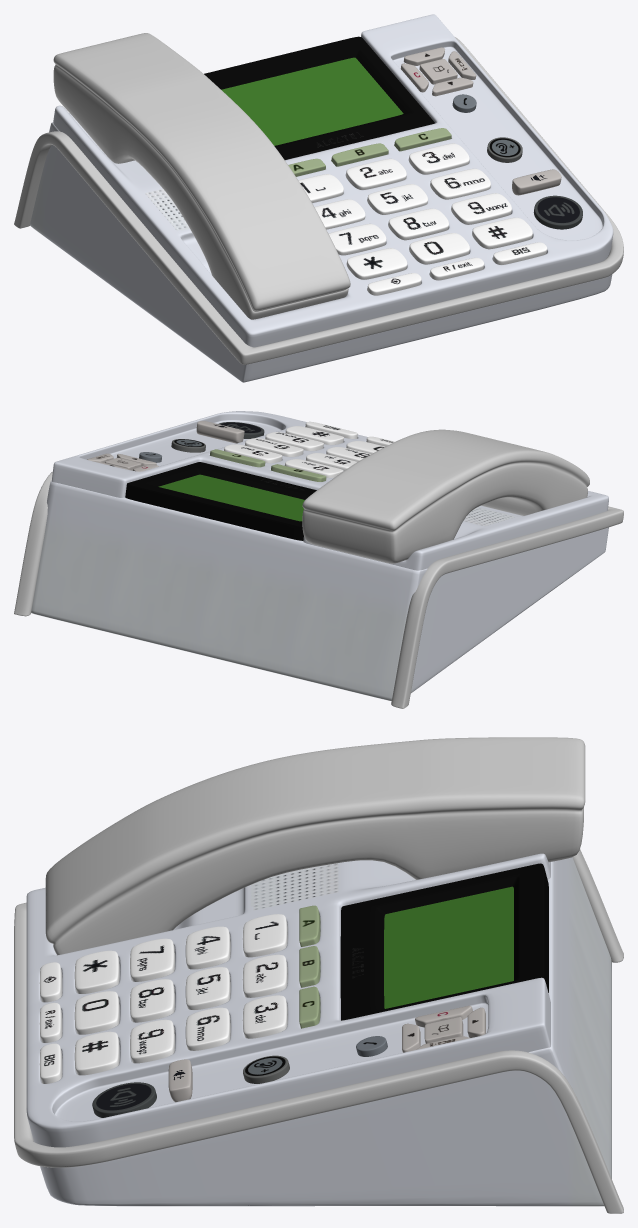
File: domophone.fbx
3 renders of one model, top to bottom at view 1: azimuth 30°, elevation 25°; view 2: azimuth 150°, elevation 25°; view 3: azimuth 270°, elevation 25°, orthographic. The views are drawn at different scales.
Visible parts, largest first — view 1: Socle, Plane.002, Cube, Plane, Ecran, Support_Ecran, Button_0, Button_#, Button_8, Button_*, Button_9, Button_2 (+15 smaller); view 2: Cube, Plane.002, Socle, Plane, Support_Ecran, Ecran, Button_Volume, Button_6, Button_9, Button_#, Button_3, Button_2 (+3 smaller); view 3: Plane.002, Cube, Socle, Plane, Ecran, Support_Ecran, Button_#, Button_6, Button_0, Button_9, Button_8, Button_4 (+16 smaller).
Part boxes in pixels (bbox=[...]): Socle: bbox=[53, 14, 613, 347]; Plane.002: bbox=[53, 33, 350, 319]; Cube: bbox=[30, 122, 612, 382]; Plane: bbox=[14, 37, 623, 364]; Ecran: bbox=[221, 57, 403, 145]; Support_Ecran: bbox=[204, 36, 434, 159]; Button_0: bbox=[409, 233, 469, 264]; Button_#: bbox=[472, 217, 532, 249]; Button_8: bbox=[388, 208, 448, 240]; Button_*: bbox=[346, 248, 407, 279]; Button_9: bbox=[451, 193, 511, 224]; Button_2: bbox=[346, 158, 406, 189]; Cube: bbox=[31, 481, 608, 701]; Plane.002: bbox=[302, 429, 589, 563]; Socle: bbox=[51, 411, 608, 570]; Plane: bbox=[14, 471, 623, 708]; Support_Ecran: bbox=[125, 462, 316, 540]; Ecran: bbox=[158, 474, 304, 521]; Button_Volume: bbox=[196, 421, 244, 443]; Button_6: bbox=[245, 438, 303, 456]; Button_9: bbox=[265, 432, 323, 450]; Button_#: bbox=[285, 426, 343, 444]; Button_3: bbox=[224, 444, 282, 463]; Button_2: bbox=[284, 459, 343, 477]; Plane.002: bbox=[45, 737, 585, 955]; Cube: bbox=[40, 857, 611, 1206]; Socle: bbox=[26, 853, 550, 1147]; Plane: bbox=[14, 849, 623, 1213]; Ecran: bbox=[384, 886, 513, 1008]; Support_Ecran: bbox=[340, 863, 548, 1020]; Button_#: bbox=[74, 1031, 119, 1075]; Button_6: bbox=[185, 1007, 230, 1050]; Button_0: bbox=[74, 991, 119, 1034]; Button_9: bbox=[130, 1019, 174, 1063]; Button_8: bbox=[130, 979, 174, 1022]; Button_4: bbox=[185, 926, 230, 969].
Bounding box in the file's own units: 9.91 × 4.17 × 9.81.
